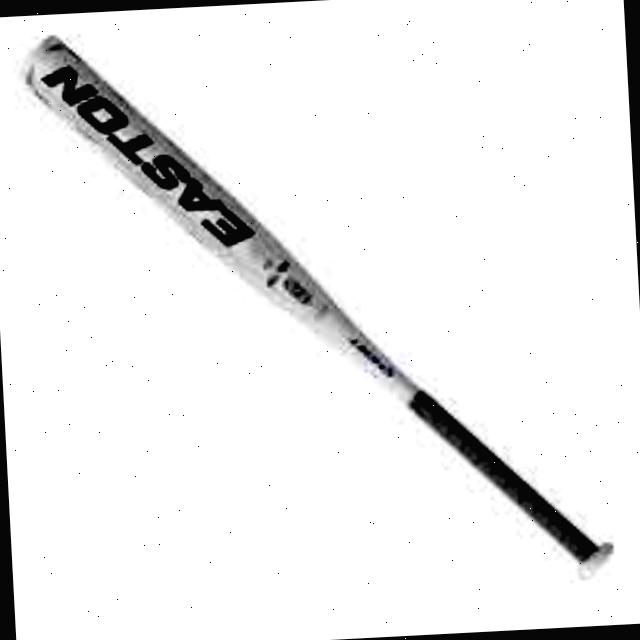baseball bat: (15, 16, 609, 571)
